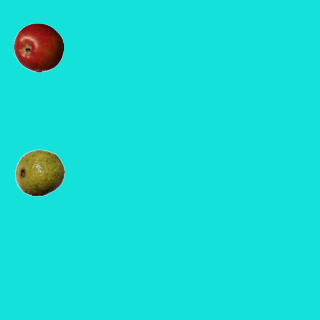Apple Braeburn: (13, 22, 63, 72)
Guava: (14, 147, 64, 197)
